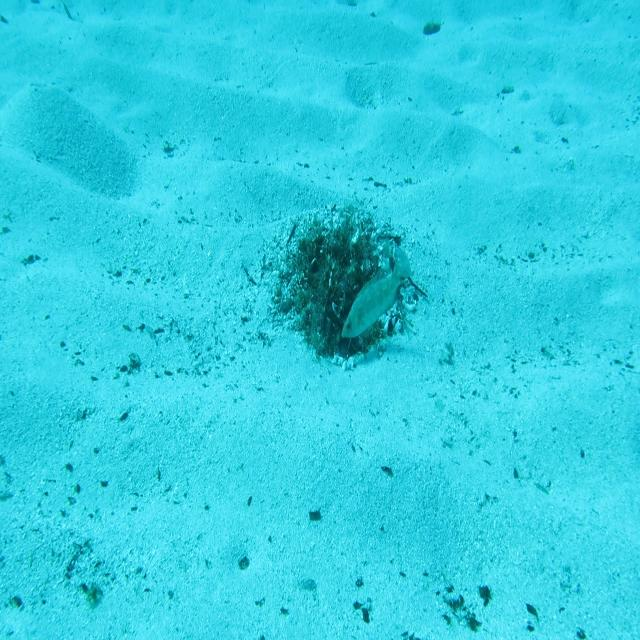NIP_IN: (340, 245, 414, 342)
core_nest: (324, 251, 368, 278)
nest: (277, 214, 419, 372)
